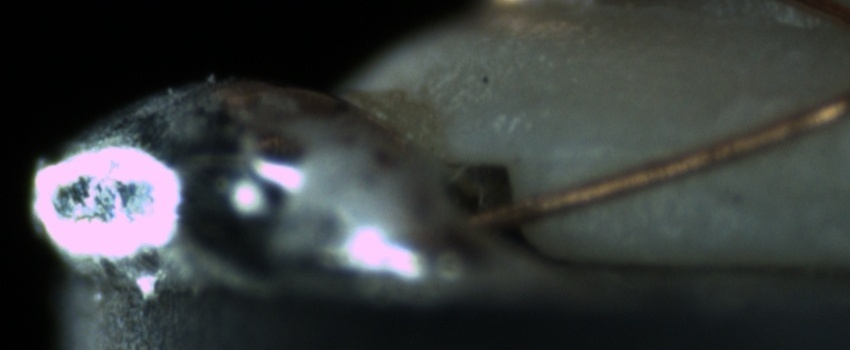DL: (535, 126, 676, 181)
